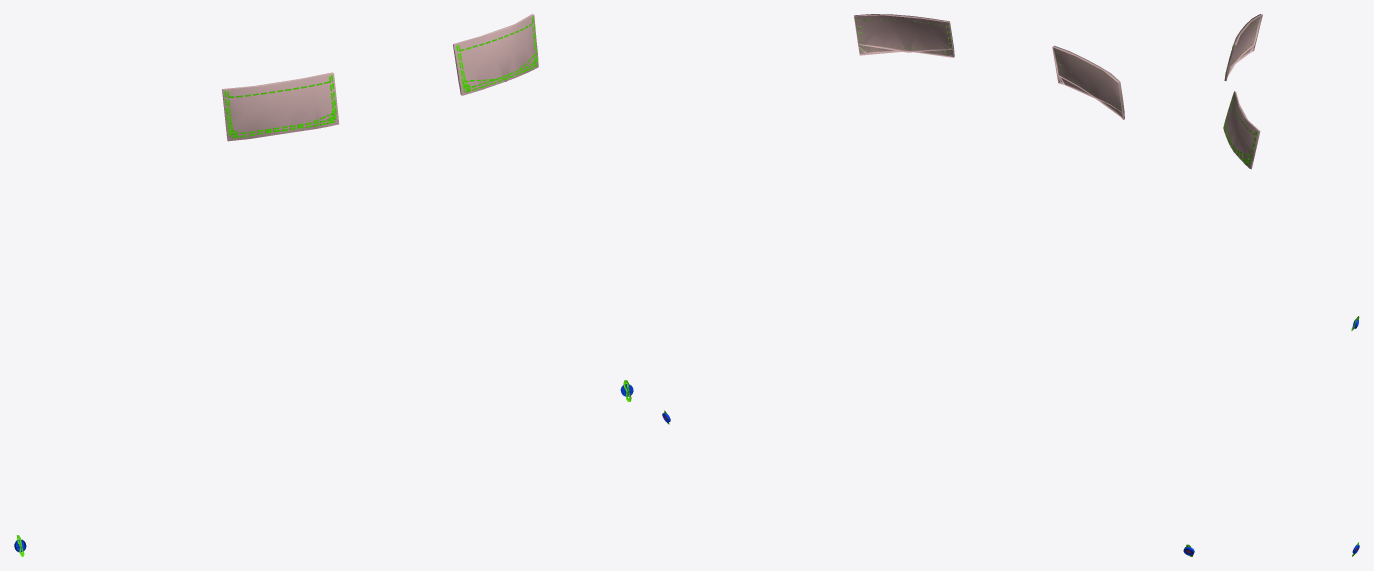
File: daigai.fbx
3 views of the same model, side by side, from view 1: azimuth 30°, elevation 25°; view 2: azimuth 150°, elevation 25°; view 3: azimuth 270°, elevation 25° (orthographic). The views are drawn at different scales.
Parts seen in each view (by area): view 1: yuanjiaodaigai001, yuanjiaodaigai002, sanjiandaigai002, sanjiandaigai001; view 2: sanjiandaigai002, yuanjiaodaigai002, yuanjiaodaigai001, sanjiandaigai001; view 3: yuanjiaodaigai002, sanjiandaigai002, yuanjiaodaigai001, sanjiandaigai001.
Part boxes in pixels (x1=…): yuanjiaodaigai001: x1=222, y1=72, x2=338, y2=138; yuanjiaodaigai002: x1=453, y1=14, x2=538, y2=93; sanjiandaigai002: x1=460, y1=21, x2=537, y2=81; sanjiandaigai001: x1=224, y1=83, x2=336, y2=132; sanjiandaigai002: x1=854, y1=16, x2=952, y2=52; yuanjiaodaigai002: x1=854, y1=14, x2=954, y2=56; yuanjiaodaigai001: x1=1052, y1=45, x2=1122, y2=116; sanjiandaigai001: x1=1052, y1=49, x2=1122, y2=112; yuanjiaodaigai002: x1=1224, y1=91, x2=1259, y2=165; sanjiandaigai002: x1=1226, y1=99, x2=1254, y2=159; yuanjiaodaigai001: x1=1225, y1=14, x2=1262, y2=76; sanjiandaigai001: x1=1230, y1=15, x2=1262, y2=68.
Bounding box in the file's own units: 50.12 × 37.3 × 12.3.
